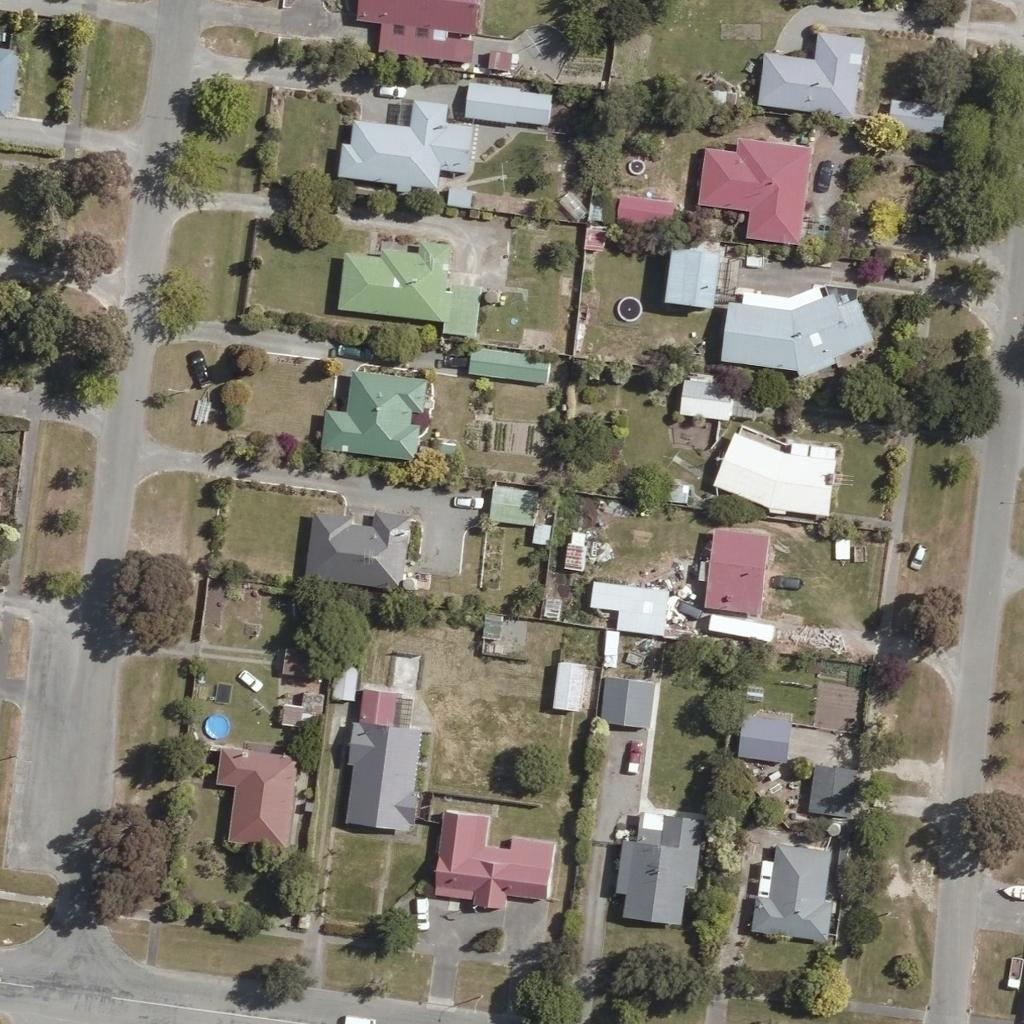car: (372, 72, 406, 106), (807, 158, 841, 192), (336, 334, 370, 368), (434, 344, 468, 378), (181, 348, 215, 382), (449, 484, 483, 518), (902, 537, 936, 571), (770, 564, 804, 598), (230, 662, 264, 696), (617, 738, 651, 772), (403, 895, 437, 929)
